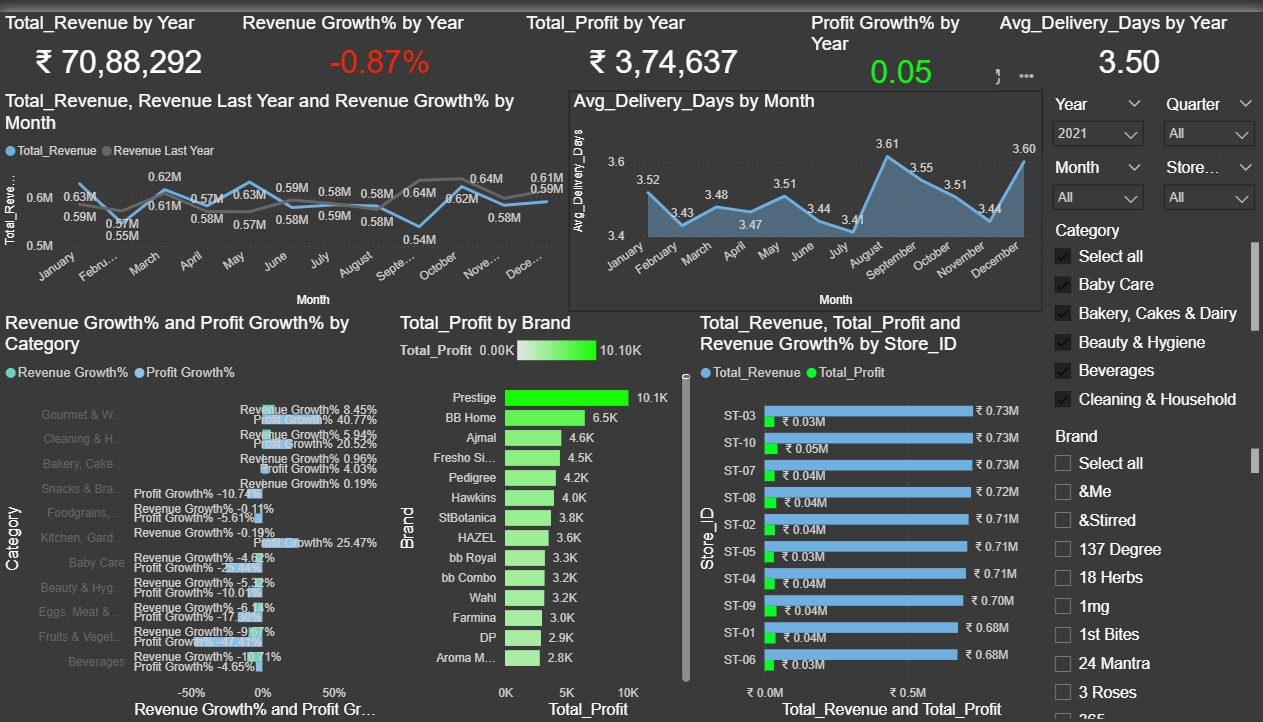

The dashboard page shown, as its layout file describes it:
{"tool":"powerbi","page":{"name":"Page 1","canvas":[1280,720],"ordinal":0},"visuals":[{"type":"kpi","fields":{"Indicator":["RETAIL_SALES.Total_Revenue"],"TrendLine":["DateTable.Year"]},"box":[0,0,240,80],"z":0},{"type":"kpi","fields":{"Indicator":["RETAIL_SALES.Total_Profit"],"TrendLine":["DateTable.Year"]},"box":[528,0,288,80],"z":1000},{"type":"kpi","fields":{"Indicator":["RETAIL_SALES.Avg_Delivery_Days"],"TrendLine":["DateTable.Year"]},"box":[1008,0,272,80],"z":2000},{"type":"slicer","fields":{"Values":["DateTable.Year"]},"box":[1056,80,112,64],"z":3000},{"type":"lineChart","fields":{"Y":["RETAIL_SALES.Total_Revenue","RETAIL_SALES.Revenue Last Year"],"Category":["DateTable.Date.Variation.Date Hierarchy.Month"]},"box":[0,80,576,224],"z":4000},{"type":"clusteredBarChart","fields":{"Y":["RETAIL_SALES.Revenue Growth%","RETAIL_SALES.Profit Growth%"],"Category":["RETAIL_SALES.Category"]},"box":[0,304,400,416],"z":5000},{"type":"lineChart","fields":{"Category":["DateTable.Date.Variation.Date Hierarchy.Month"],"Y":["RETAIL_SALES.Avg_Delivery_Days"]},"box":[576,80,480,224],"z":6000},{"type":"kpi","fields":{"Indicator":["RETAIL_SALES.Revenue Growth%"],"TrendLine":["DateTable.Year"]},"box":[240,0,288,80],"z":7000},{"type":"clusteredBarChart","fields":{"Category":["RETAIL_SALES.Brand"],"Y":["RETAIL_SALES.Total_Profit"]},"box":[400,304,304,416],"z":8000},{"type":"clusteredBarChart","fields":{"Category":["RETAIL_SALES.Store_ID"],"Y":["RETAIL_SALES.Total_Revenue","RETAIL_SALES.Total_Profit"]},"box":[704,304,352,416],"z":9000},{"type":"kpi","fields":{"TrendLine":["DateTable.Year"],"Indicator":["RETAIL_SALES.Profit Growth%"]},"box":[816,0,192,80],"z":10000},{"type":"slicer","fields":{"Values":["DateTable.Quarter"]},"box":[1168,80,112,64],"z":11000},{"type":"slicer","fields":{"Values":["DateTable.Month Name"]},"box":[1056,144,112,64],"z":12000},{"type":"slicer","fields":{"Values":["RETAIL_SALES.Category"]},"box":[1056,208,224,208],"z":13000},{"type":"slicer","fields":{"Values":["RETAIL_SALES.Brand"]},"box":[1056,416,224,304],"z":14000},{"type":"slicer","fields":{"Values":["RETAIL_SALES.Store_ID"]},"box":[1168,144,112,64],"z":15000}]}

Visuals, with their boxes in screenshot pixels (x1, y1, x2, y2), scaled from the page's 1280x720 canvas onto the 1263x722 screenshot:
kpi - RETAIL_SALES.Total_Revenue x DateTable.Year: 0,0,237,80
kpi - RETAIL_SALES.Total_Profit x DateTable.Year: 521,0,805,80
kpi - RETAIL_SALES.Avg_Delivery_Days x DateTable.Year: 995,0,1262,80
slicer - DateTable.Year: 1042,80,1152,144
lineChart - RETAIL_SALES.Total_Revenue x RETAIL_SALES.Revenue Last Year: 0,80,568,305
clusteredBarChart - RETAIL_SALES.Revenue Growth% x RETAIL_SALES.Profit Growth%: 0,305,395,721
lineChart - DateTable.Date.Variation.Date Hierarchy.Month x RETAIL_SALES.Avg_Delivery_Days: 568,80,1042,305
kpi - RETAIL_SALES.Revenue Growth% x DateTable.Year: 237,0,521,80
clusteredBarChart - RETAIL_SALES.Brand x RETAIL_SALES.Total_Profit: 395,305,695,721
clusteredBarChart - RETAIL_SALES.Store_ID x RETAIL_SALES.Total_Revenue: 695,305,1042,721
kpi - DateTable.Year x RETAIL_SALES.Profit Growth%: 805,0,995,80
slicer - DateTable.Quarter: 1152,80,1262,144
slicer - DateTable.Month Name: 1042,144,1152,209
slicer - RETAIL_SALES.Category: 1042,209,1262,417
slicer - RETAIL_SALES.Brand: 1042,417,1262,721
slicer - RETAIL_SALES.Store_ID: 1152,144,1262,209
